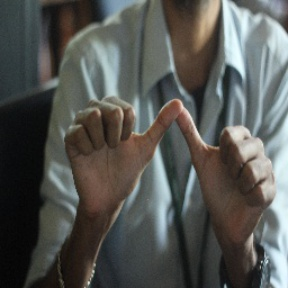A: (85, 91, 267, 201)
